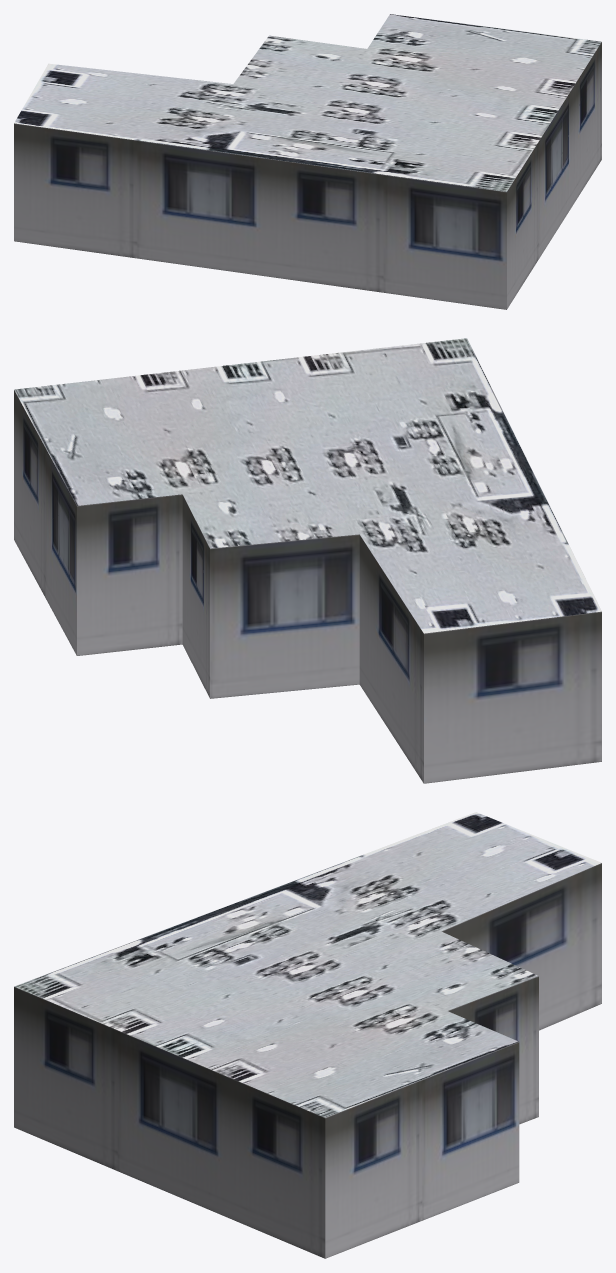
The model's file is ResTex__5220.fbx.
The picture shows the model from 3 angles, top to bottom: view 1: azimuth 30°, elevation 25°; view 2: azimuth 150°, elevation 25°; view 3: azimuth 270°, elevation 25°; orthographic projection. The views are drawn at different scales.
Parts seen in each view (by area): view 1: CityEngineMaterial_9_m, CityEngineMaterial_m; view 2: CityEngineMaterial_m, CityEngineMaterial_9_m; view 3: CityEngineMaterial_9_m, CityEngineMaterial_m.
Boxes of the visible parts, x1,y1,x2,y2 form: CityEngineMaterial_9_m: [14, 42, 601, 309]; CityEngineMaterial_m: [14, 14, 601, 191]; CityEngineMaterial_m: [14, 338, 601, 633]; CityEngineMaterial_9_m: [14, 390, 601, 783]; CityEngineMaterial_9_m: [14, 863, 601, 1258]; CityEngineMaterial_m: [14, 812, 601, 1117].
Size of the model in its own units: 13.97 by 3 by 11.35.
Materials: 2 (2 with a texture image).
